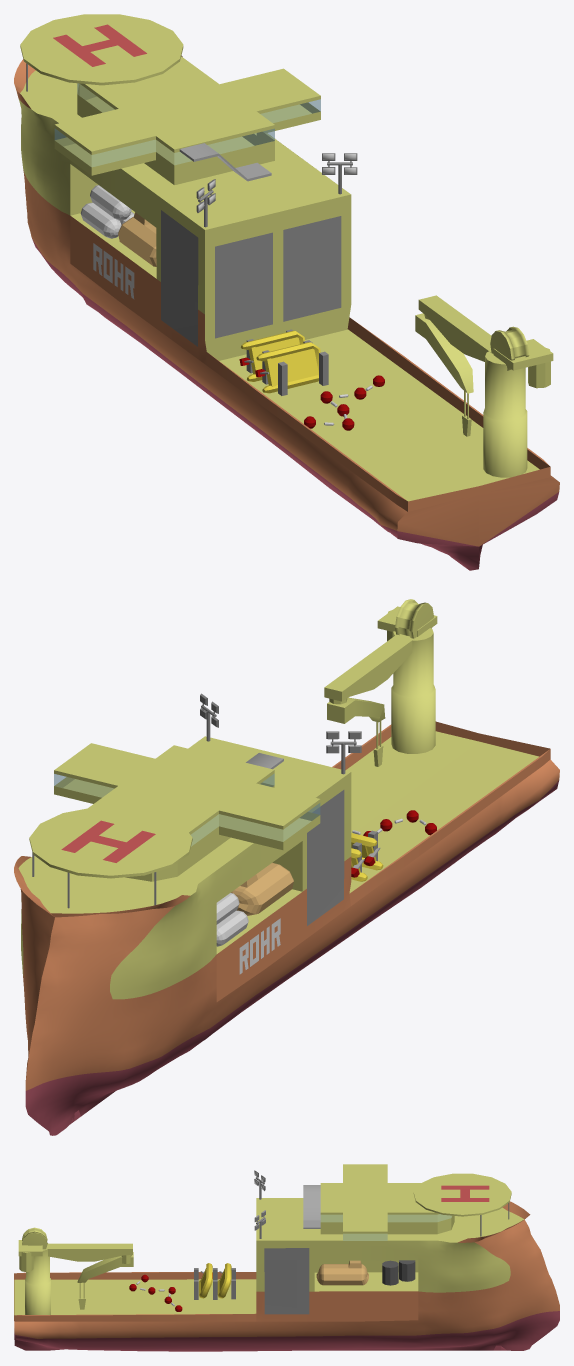
Rendered from commandship.fbx.
3 views of the same model, one above another, from view 1: azimuth 30°, elevation 25°; view 2: azimuth 150°, elevation 25°; view 3: azimuth 270°, elevation 25° (orthographic). The views are drawn at different scales.
Visible parts, largest first — view 1: polySurface272; view 2: polySurface272; view 3: polySurface272.
Part boxes in pixels (<box>): polySurface272: <box>14,14,559,570</box>; polySurface272: <box>14,599,559,1135</box>; polySurface272: <box>14,1164,559,1351</box>.
Bounding box in the file's own units: 3.21 × 3.49 × 11.02.
